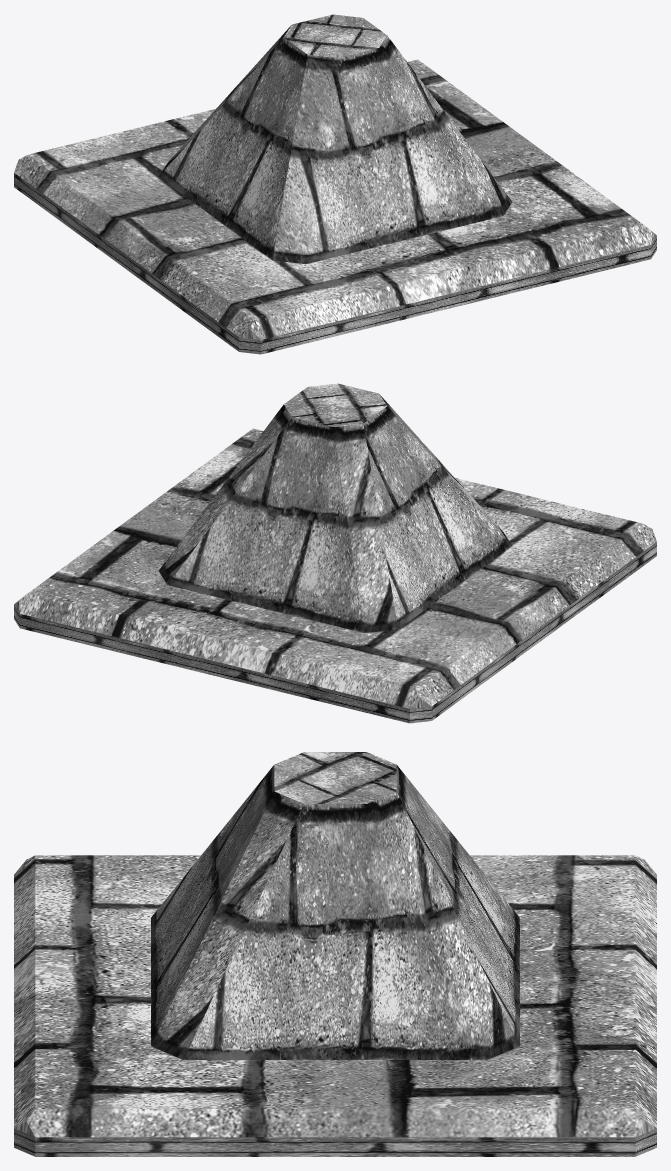
The model's file is PuzzleCubeFoundation.fbx.
The picture shows the model from 3 angles, top to bottom: view 1: azimuth 30°, elevation 25°; view 2: azimuth 150°, elevation 25°; view 3: azimuth 270°, elevation 25°; orthographic projection. The views are drawn at different scales.
Parts seen in each view (by area): view 1: Box002, Pyramid001; view 2: Box002, Pyramid001; view 3: Box002, Pyramid001.
Part boxes in pixels (x1,y1,x2,y2): Box002: (14, 59, 656, 354); Pyramid001: (159, 14, 511, 264); Box002: (14, 428, 656, 723); Pyramid001: (159, 383, 511, 633); Box002: (14, 855, 656, 1156); Pyramid001: (151, 752, 519, 1059).
Bounding box in the file's own units: 30 × 12.51 × 30.
